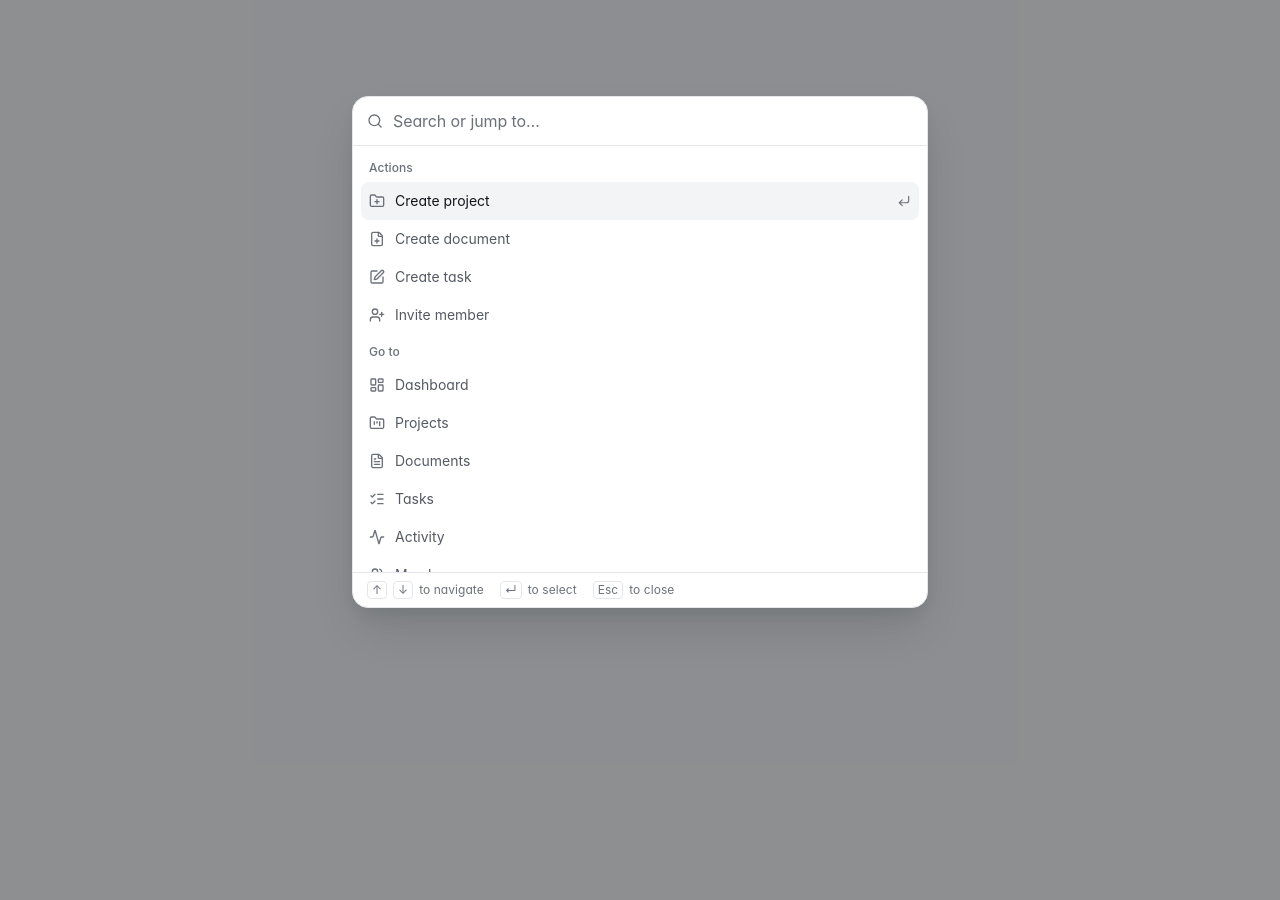
Scenario: CommandMenu › searching › filters the local actions by the same query
The image size is (1280, 900).
Type "invite" into the dropdown.
click(653, 121); type("invite")  # box [393,97,913,145]
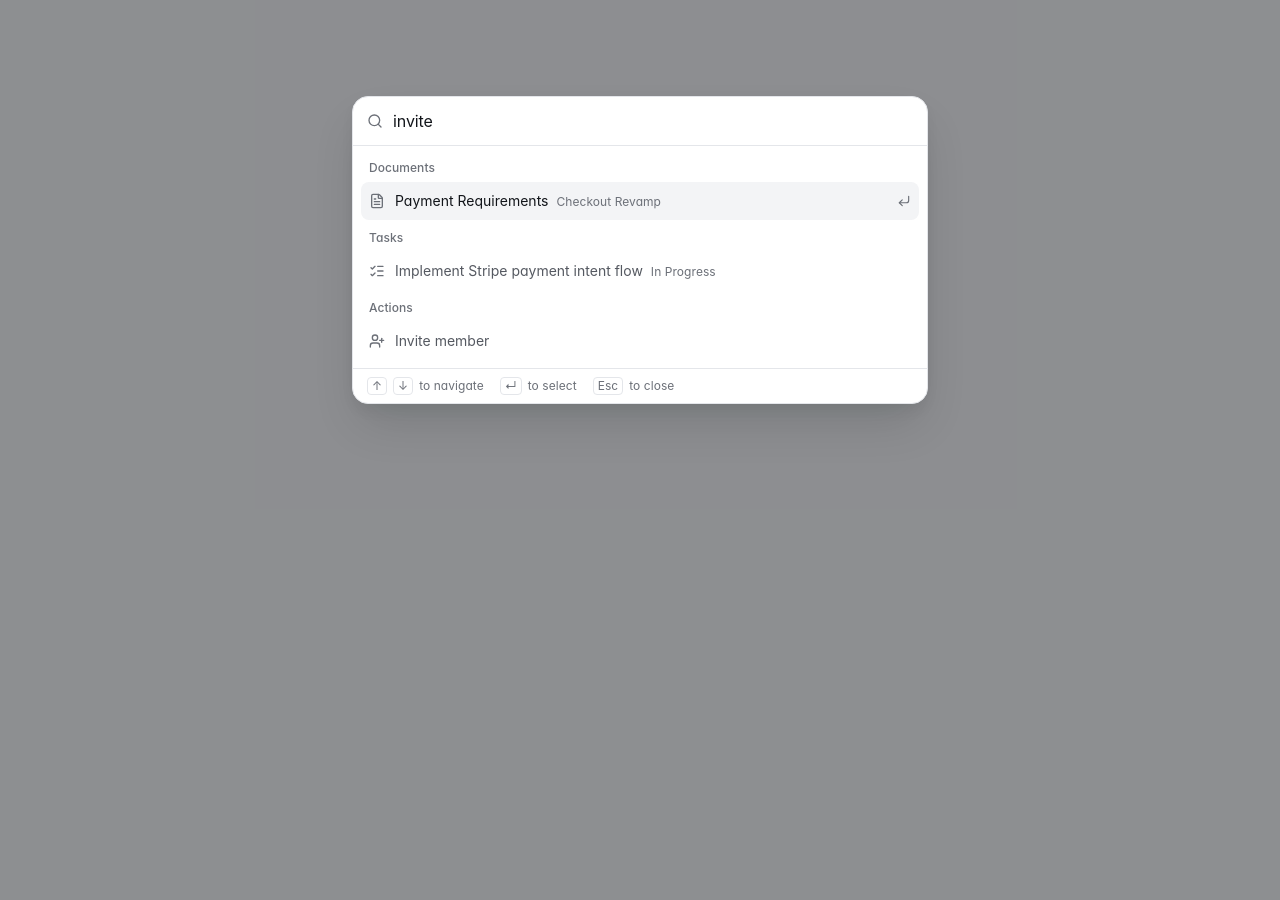
expect the option "Invite member" is shown: met, box [369,332,489,349]
expect the option "Create project" is gone: met
